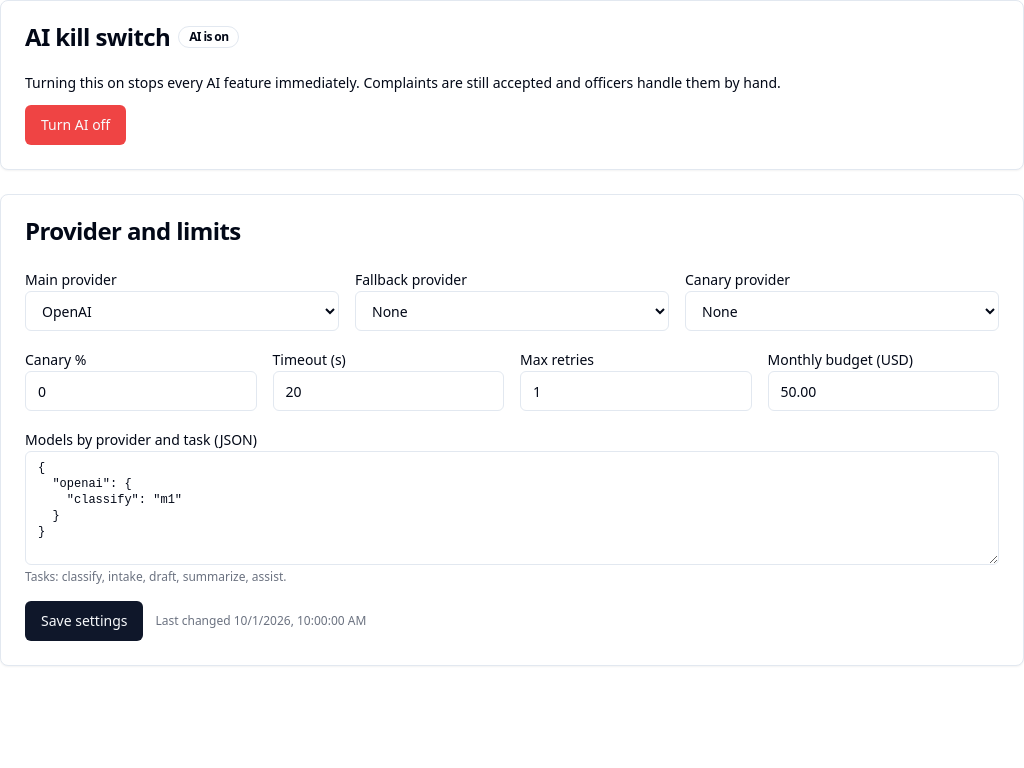
Test case: admin AI settings › asks for confirmation, then sends the kill switch
Click the button "Turn AI off" at {"x": 76, "y": 125}, box [25,105,126,145]
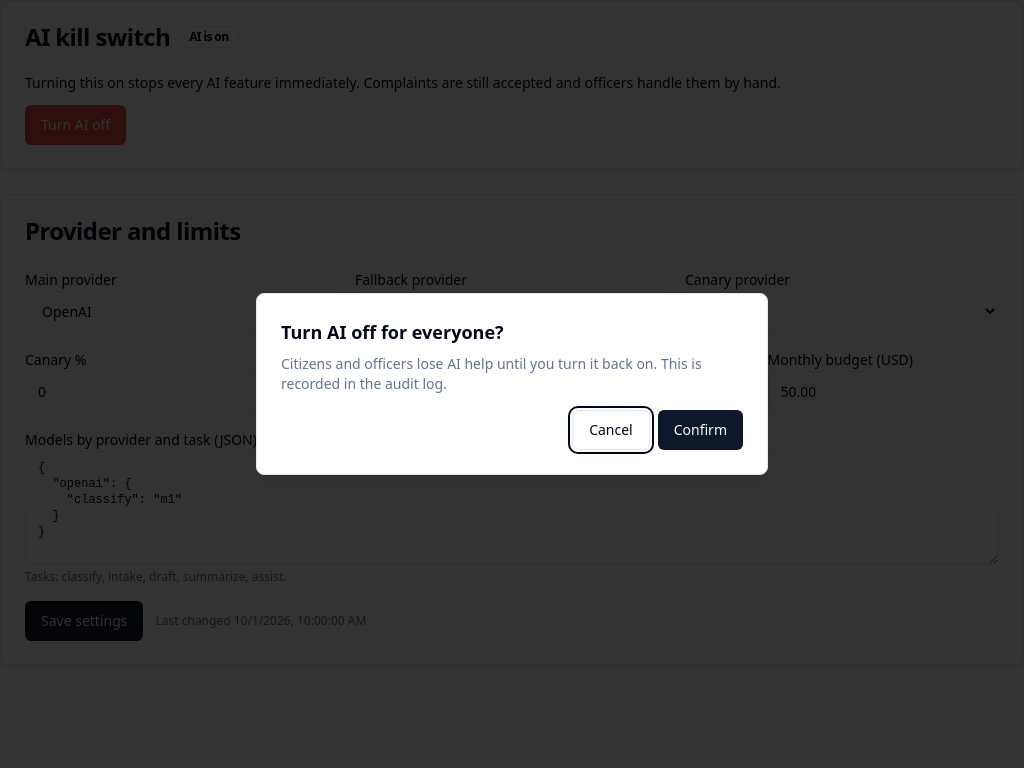
Click the button "Confirm" at {"x": 700, "y": 430}, box [658,410,743,450]
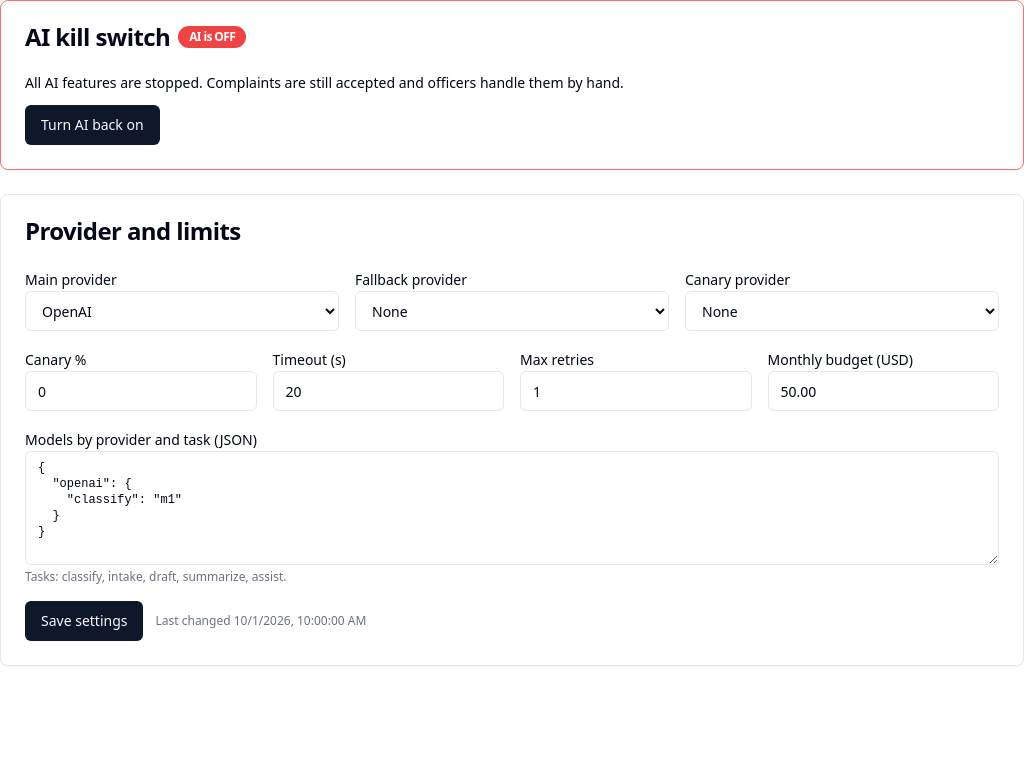
Now the text "AI is OFF" is shown, box [178,26,246,48]
